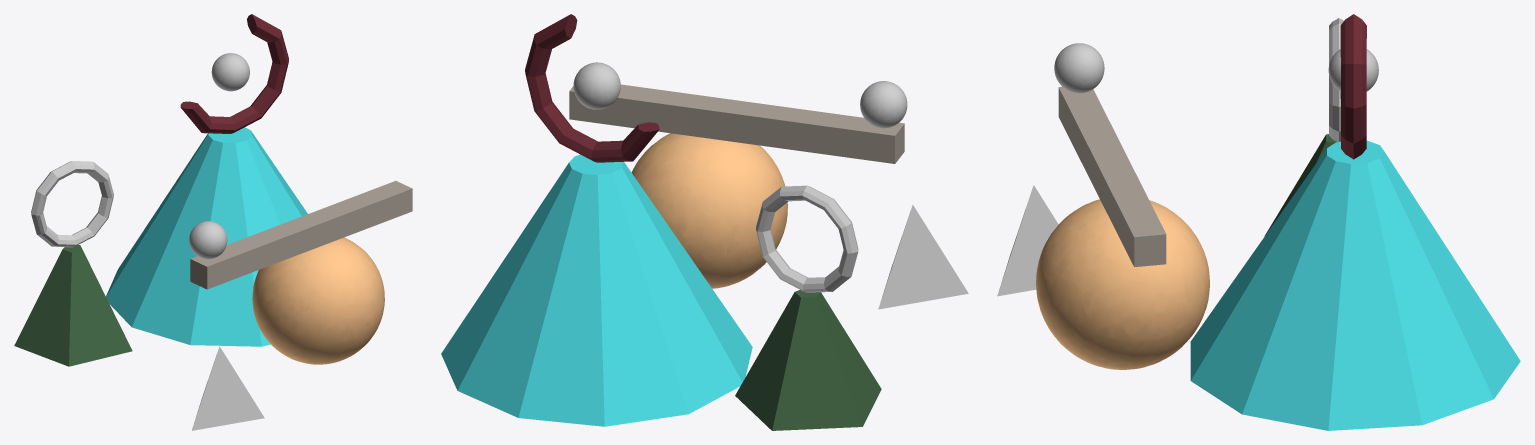
3 renders of one model, left to right at view 1: azimuth 30°, elevation 25°; view 2: azimuth 150°, elevation 25°; view 3: azimuth 270°, elevation 25°, orthographic. The views are drawn at different scales.
Parts seen in each view (by area): view 1: Cylinder_blue, Sphere_pink, Cylinder, Cube, Torus_half, Cone, Torus, Sphere_yellow, Sphere_pink_lil; view 2: Cylinder_blue, Sphere_pink, Cylinder, Cube, Torus_half, Cone, Torus, Sphere_pink_lil, Sphere_yellow; view 3: Cylinder_blue, Sphere_pink, Cube, Torus_half, Cone, Sphere_yellow, Torus, Sphere_pink_lil, Cylinder.
Part boxes in pixels (x1=…): Cylinder_blue: x1=106, y1=127, x2=307, y2=346; Sphere_pink: x1=252, y1=237, x2=384, y2=364; Cylinder: x1=14, y1=245, x2=132, y2=366; Cube: x1=190, y1=181, x2=412, y2=289; Torus_half: x1=180, y1=14, x2=288, y2=133; Cone: x1=192, y1=346, x2=264, y2=430; Torus: x1=31, y1=161, x2=113, y2=247; Sphere_yellow: x1=189, y1=221, x2=227, y2=259; Sphere_pink_lil: x1=211, y1=53, x2=249, y2=91; Cylinder_blue: x1=441, y1=154, x2=752, y2=426; Sphere_pink: x1=631, y1=133, x2=787, y2=288; Cylinder: x1=735, y1=290, x2=881, y2=430; Cube: x1=569, y1=84, x2=904, y2=163; Torus_half: x1=525, y1=14, x2=659, y2=162; Cone: x1=878, y1=204, x2=968, y2=309; Torus: x1=756, y1=185, x2=858, y2=292; Sphere_pink_lil: x1=573, y1=62, x2=620, y2=109; Sphere_yellow: x1=860, y1=81, x2=907, y2=128; Cylinder_blue: x1=1190, y1=140, x2=1520, y2=430; Sphere_pink: x1=1036, y1=199, x2=1209, y2=369; Cube: x1=1058, y1=86, x2=1166, y2=266; Torus_half: x1=1340, y1=14, x2=1366, y2=159; Cone: x1=997, y1=185, x2=1058, y2=296; Sphere_yellow: x1=1054, y1=43, x2=1104, y2=93; Torus: x1=1329, y1=18, x2=1343, y2=141; Sphere_pink_lil: x1=1328, y1=49, x2=1378, y2=91; Cylinder: x1=1265, y1=134, x2=1337, y2=235.
Size of the model in its own units: 1.49 by 1.21 by 1.59.
